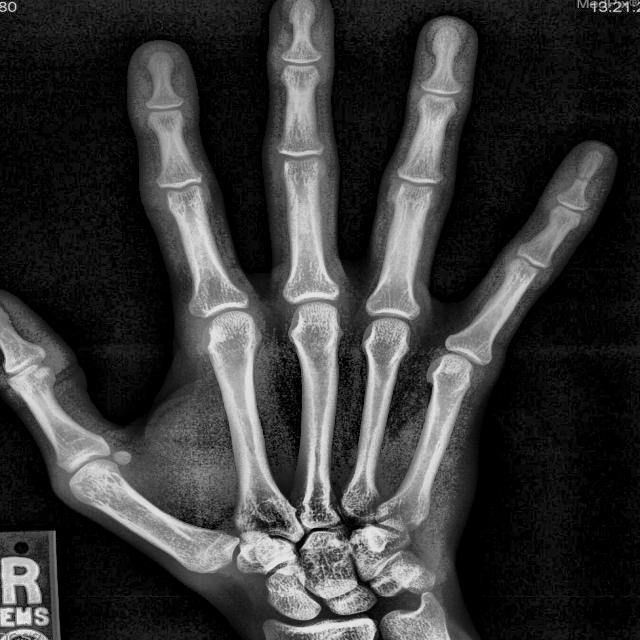fracture: (574, 175, 591, 182)
